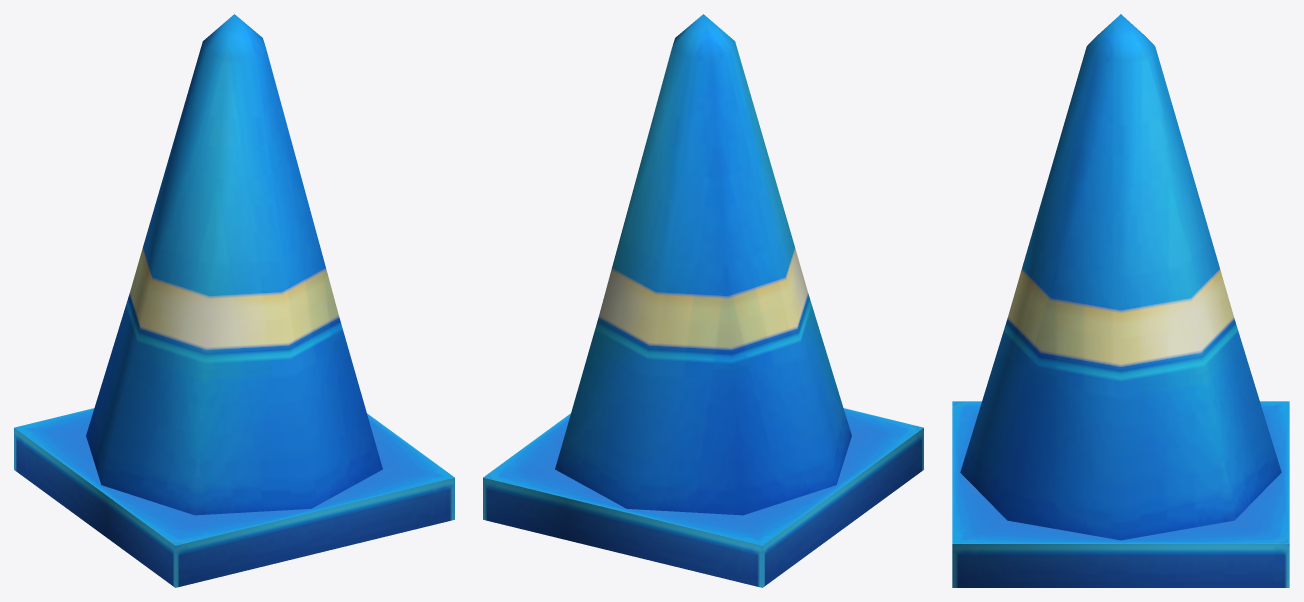
The model's file is my_autumnsports_01_colorcone_02.glb.
The picture shows the model from 3 angles, left to right: view 1: azimuth 30°, elevation 25°; view 2: azimuth 150°, elevation 25°; view 3: azimuth 270°, elevation 25°; orthographic projection. The views are drawn at different scales.
Visible parts, largest first — view 1: my_autumnsports_01_colorcone_02; view 2: my_autumnsports_01_colorcone_02; view 3: my_autumnsports_01_colorcone_02.
Boxes of the visible parts, box(x1,y1,x2,y2) form: my_autumnsports_01_colorcone_02: box(14, 14, 454, 587); my_autumnsports_01_colorcone_02: box(483, 14, 923, 587); my_autumnsports_01_colorcone_02: box(952, 14, 1289, 587).
Size of the model in its own units: 0.00203 by 0.00333 by 0.00203.
Materials: 1 (1 with a texture image).
